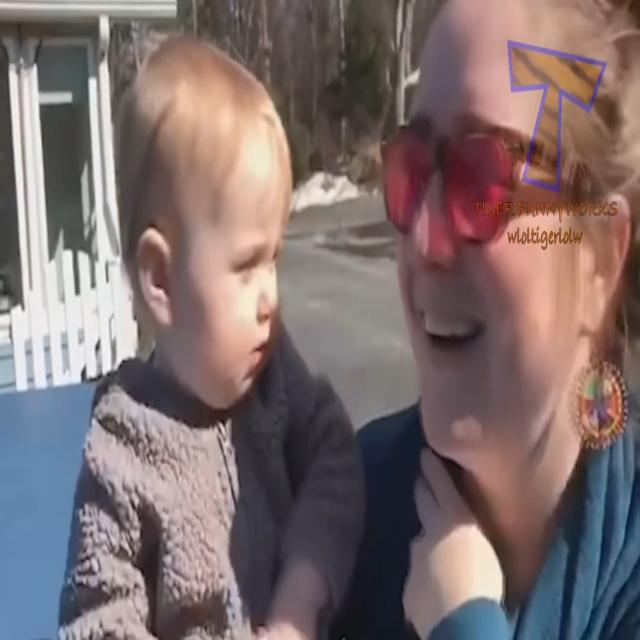safe: (108, 35, 293, 640)
